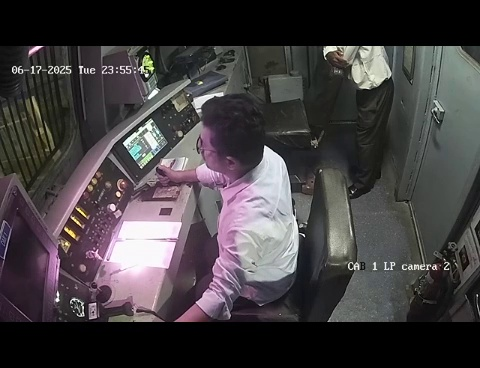horn_inactive: (82, 271, 124, 309)
